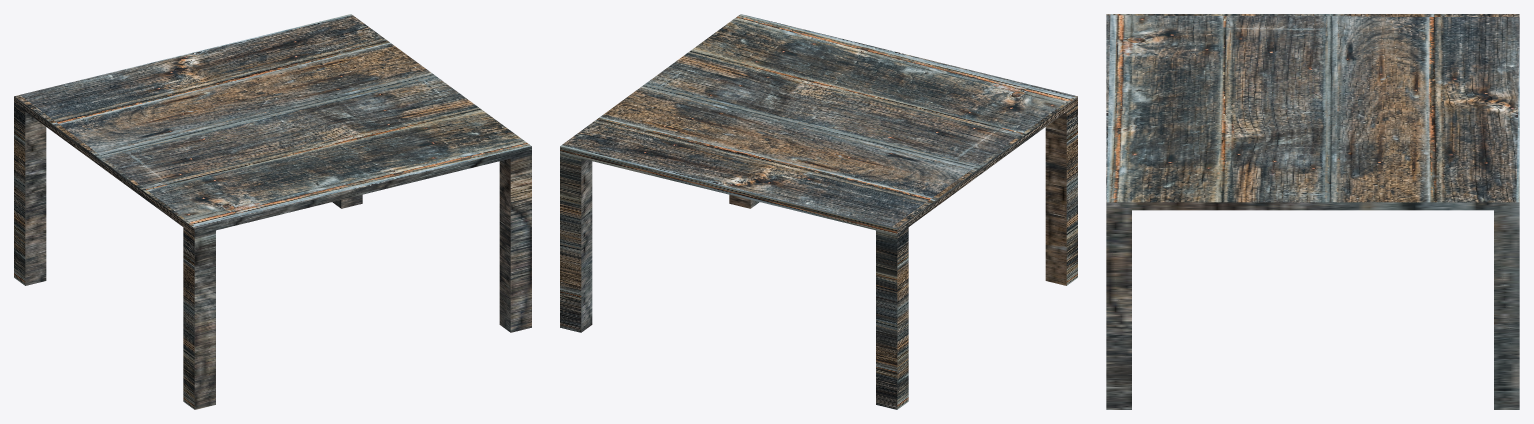
File: Memento Table.fbx
3 renders of one model, left to right at view 1: azimuth 30°, elevation 25°; view 2: azimuth 150°, elevation 25°; view 3: azimuth 270°, elevation 25°, orthographic. The views are drawn at different scales.
Visible parts, largest first — view 1: Cube; view 2: Cube; view 3: Cube.
Part boxes in pixels (x1,y1,x2,y2): Cube: (14, 14, 531, 409); Cube: (560, 14, 1077, 409); Cube: (1106, 14, 1519, 409).
Size of the model in its own units: 263 by 135 by 244.
Materials: 1 (1 with a texture image).
